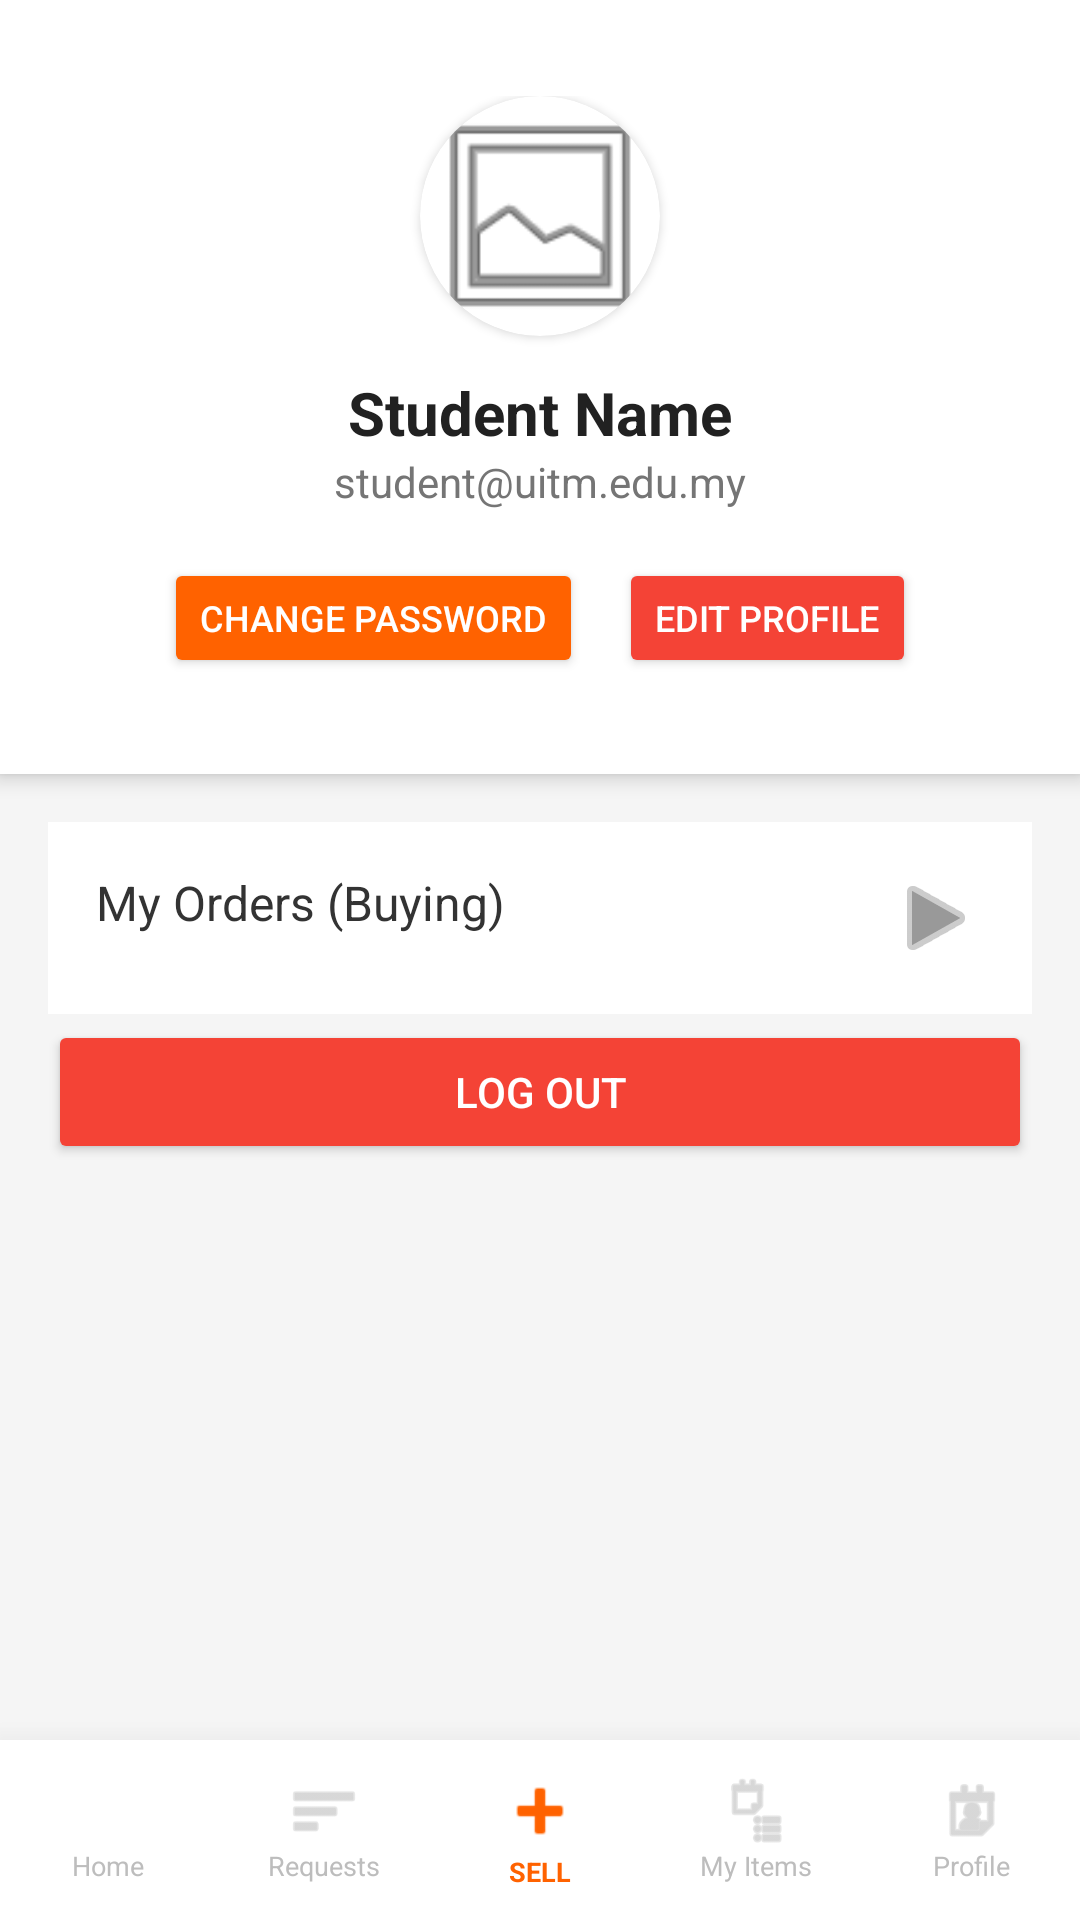

Named icons in this screenshot (1080px×1920px) and their centers, [x,y]:
add: [540,1811]
agenda: [756,1810]
gallery: [540,216]
